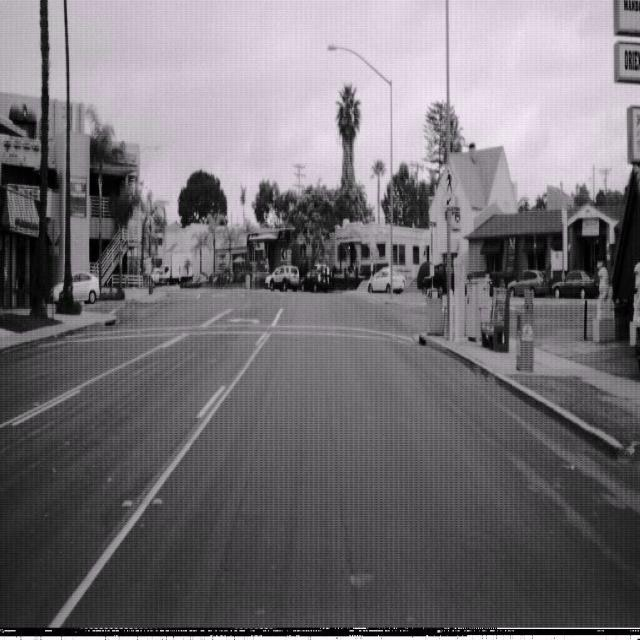pedestrianCrossing: (439, 161, 458, 201)
